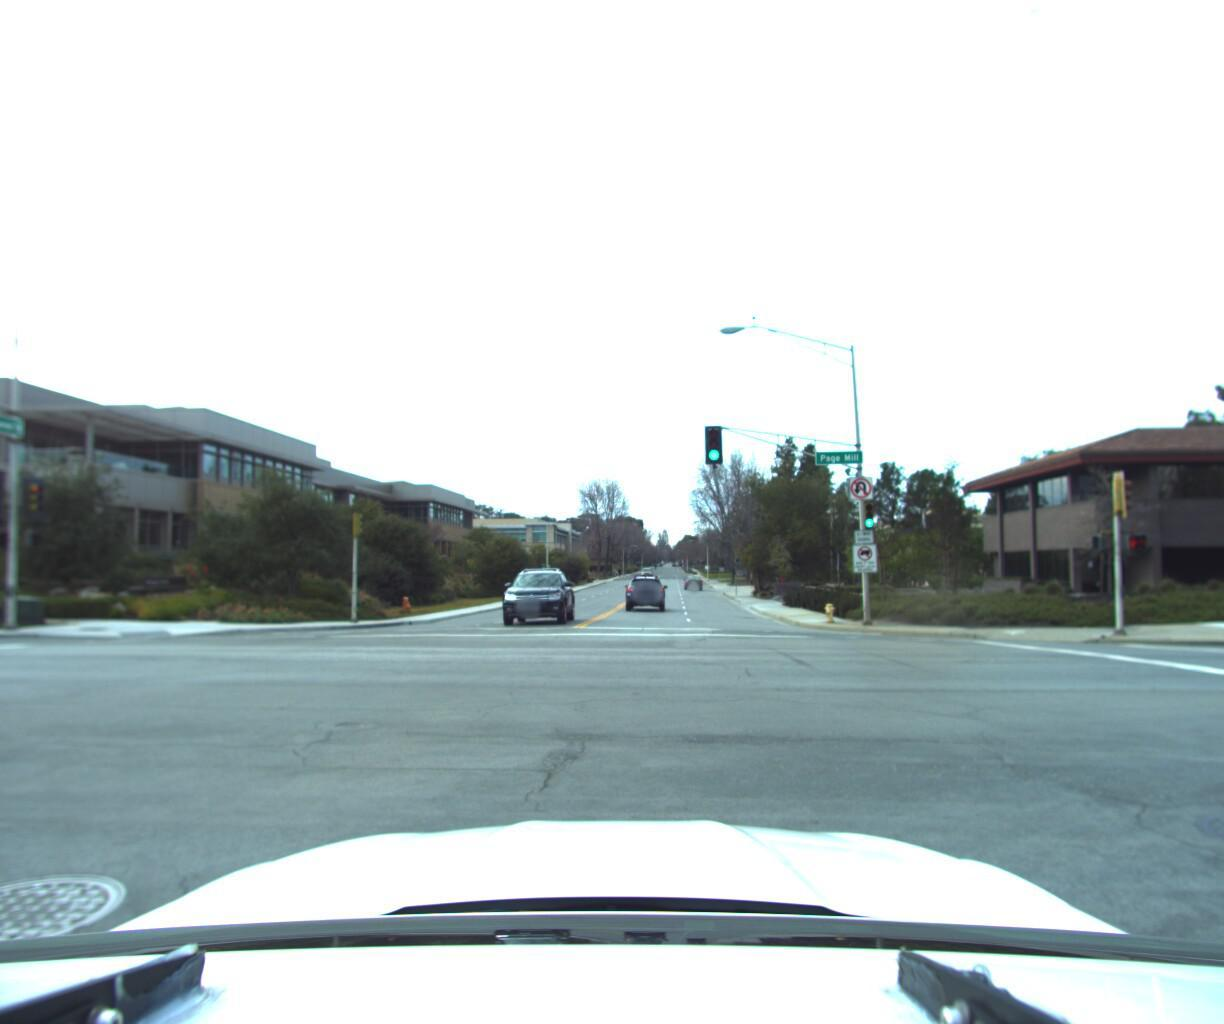car: (502, 565, 578, 624), (624, 570, 663, 606)
